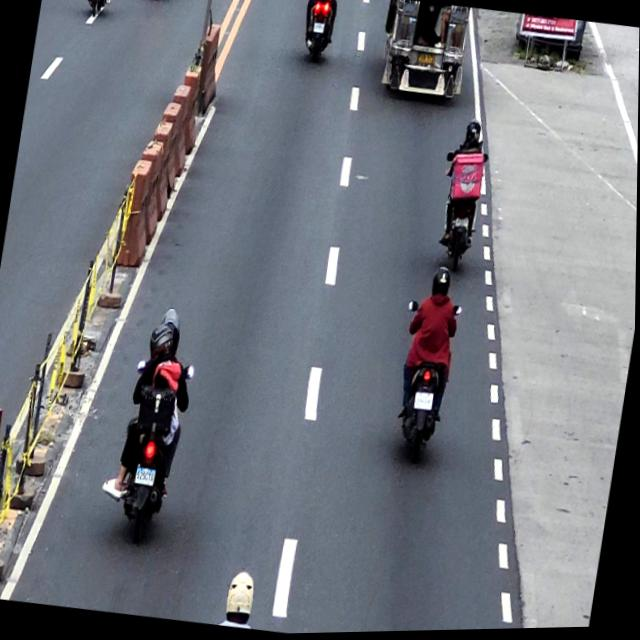Jeep: (375, 0, 473, 104)
License-Plate: (135, 468, 158, 487), (415, 393, 435, 413), (417, 54, 437, 69), (456, 220, 470, 231), (313, 24, 325, 34)
Motorcycle: (112, 357, 196, 548), (388, 300, 464, 464), (432, 149, 489, 275), (297, 0, 339, 63)
